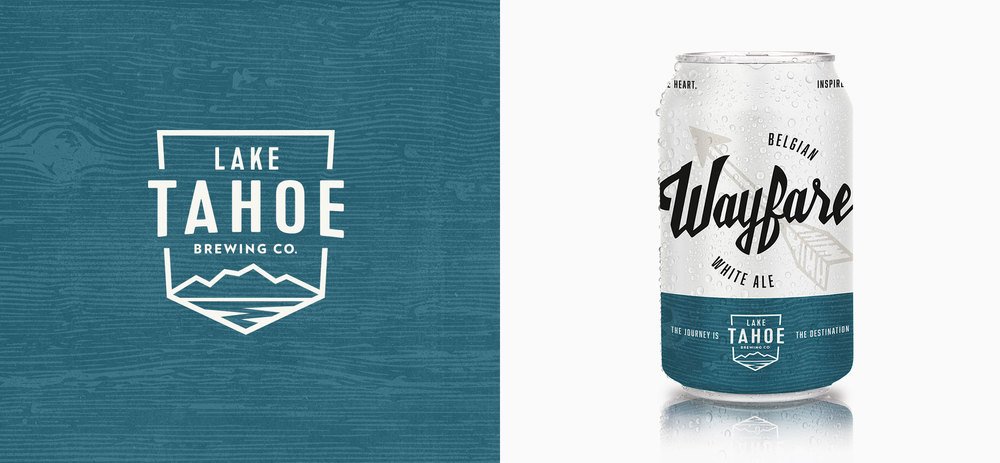beer can: (653, 51, 855, 402)
